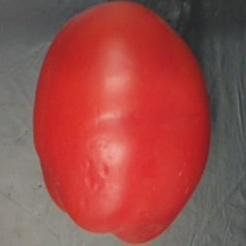unripe: (32, 0, 217, 246)
